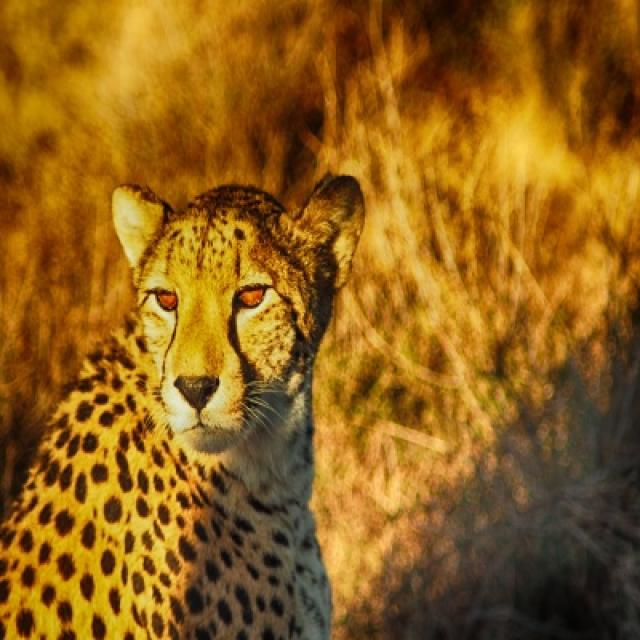Cheetah: (0, 174, 366, 638)
